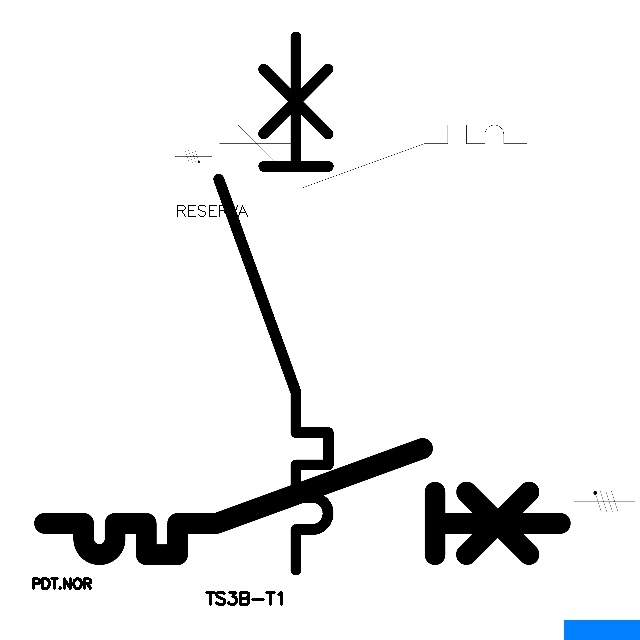interruptor_termomagnetico: (205, 23, 342, 584), (31, 435, 574, 568), (211, 117, 535, 196)
